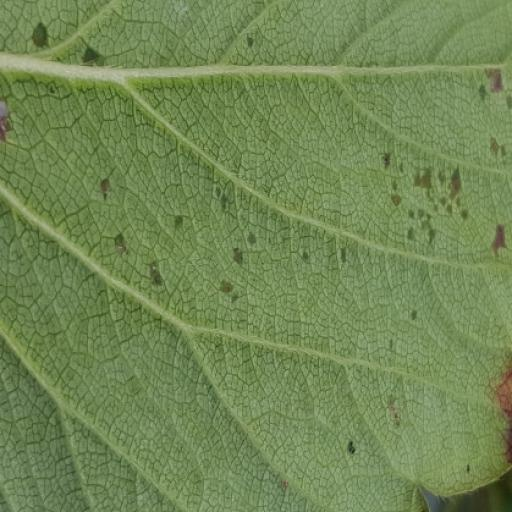Angular Leafspot: (0, 5, 511, 484)
